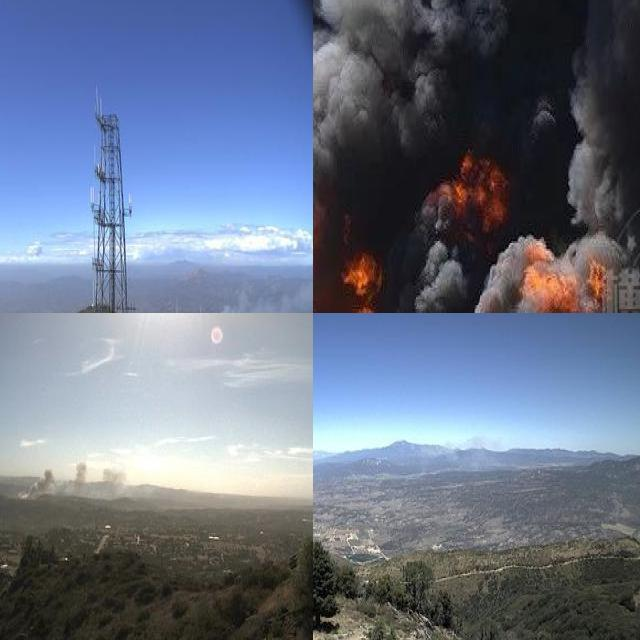fire: (471, 237, 605, 313), (313, 239, 391, 313)
smoke: (313, 0, 640, 313), (10, 454, 130, 502), (199, 273, 313, 313), (404, 431, 501, 474)
